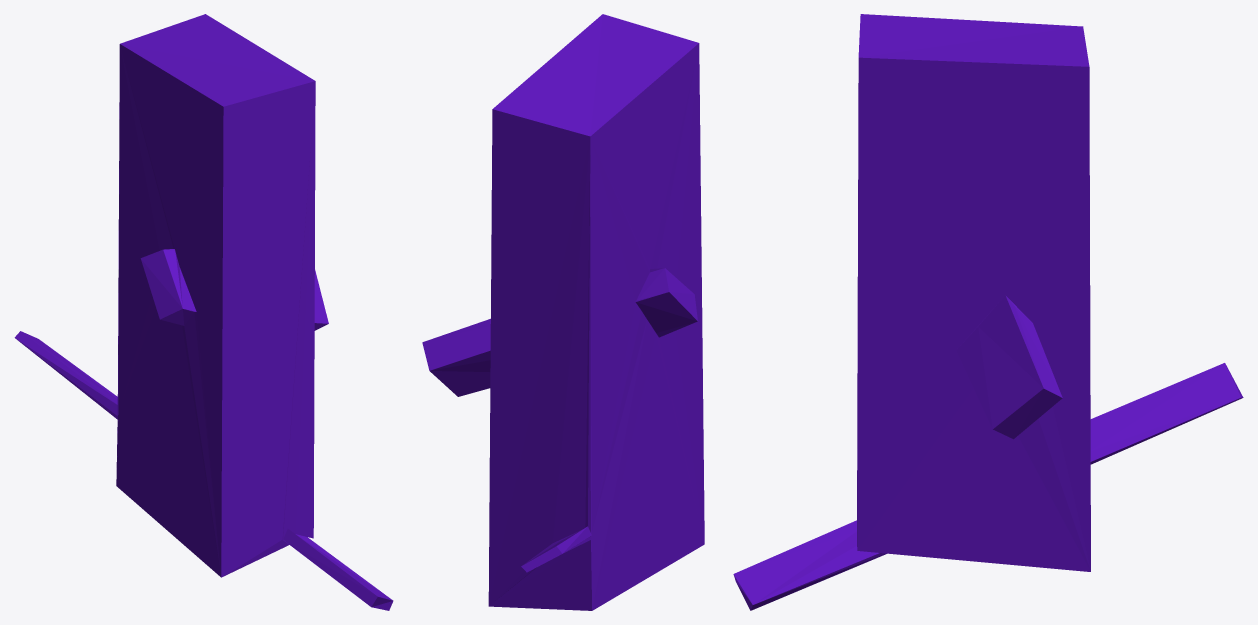
3 renders of one model, left to right at view 1: azimuth 30°, elevation 25°; view 2: azimuth 150°, elevation 25°; view 3: azimuth 270°, elevation 25°, orthographic. The views are drawn at different scales.
Visible parts, largest first — view 1: 300_Cube.1226; view 2: 300_Cube.1226; view 3: 300_Cube.1226.
Part boxes in pixels (x1=…): 300_Cube.1226: x1=14, y1=14, x2=393, y2=610; 300_Cube.1226: x1=422, y1=14, x2=704, y2=610; 300_Cube.1226: x1=733, y1=14, x2=1243, y2=610.
Size of the model in its own units: 5.97 by 13.24 by 11.32.
